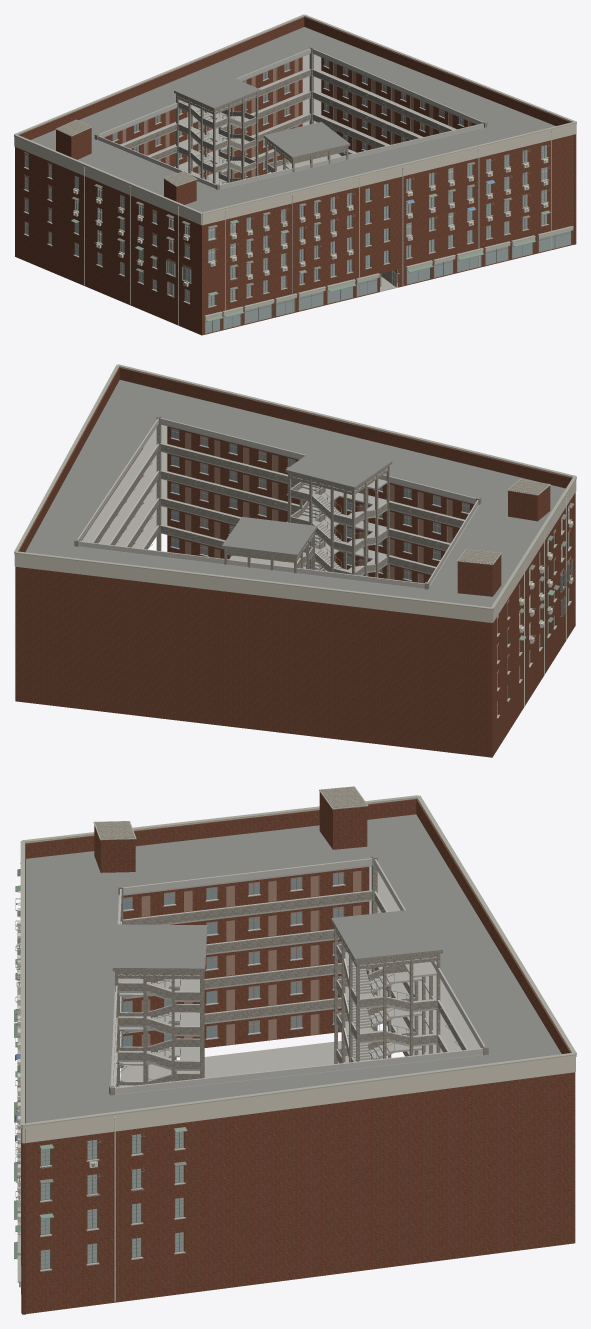
File: yangpu-longchang-apartments-grant-road-barracks-courtyard-raw.glb
The picture shows the model from 3 angles, top to bottom: view 1: azimuth 30°, elevation 25°; view 2: azimuth 150°, elevation 25°; view 3: azimuth 270°, elevation 25°; orthographic projection. The views are drawn at different scales.
Parts seen in each view (by area): view 1: 隆昌公寓——北院四面外廊与梯塔; view 2: 隆昌公寓——北院四面外廊与梯塔; view 3: 隆昌公寓——北院四面外廊与梯塔.
Part boxes in pixels (x1,y1,x2,y2): 隆昌公寓——北院四面外廊与梯塔: [14, 14, 576, 335]; 隆昌公寓——北院四面外廊与梯塔: [14, 364, 576, 757]; 隆昌公寓——北院四面外廊与梯塔: [14, 786, 576, 1314].
Bounding box in the file's own units: 76.53 × 23.38 × 55.1.
Materials: 26 (2 with a texture image).
